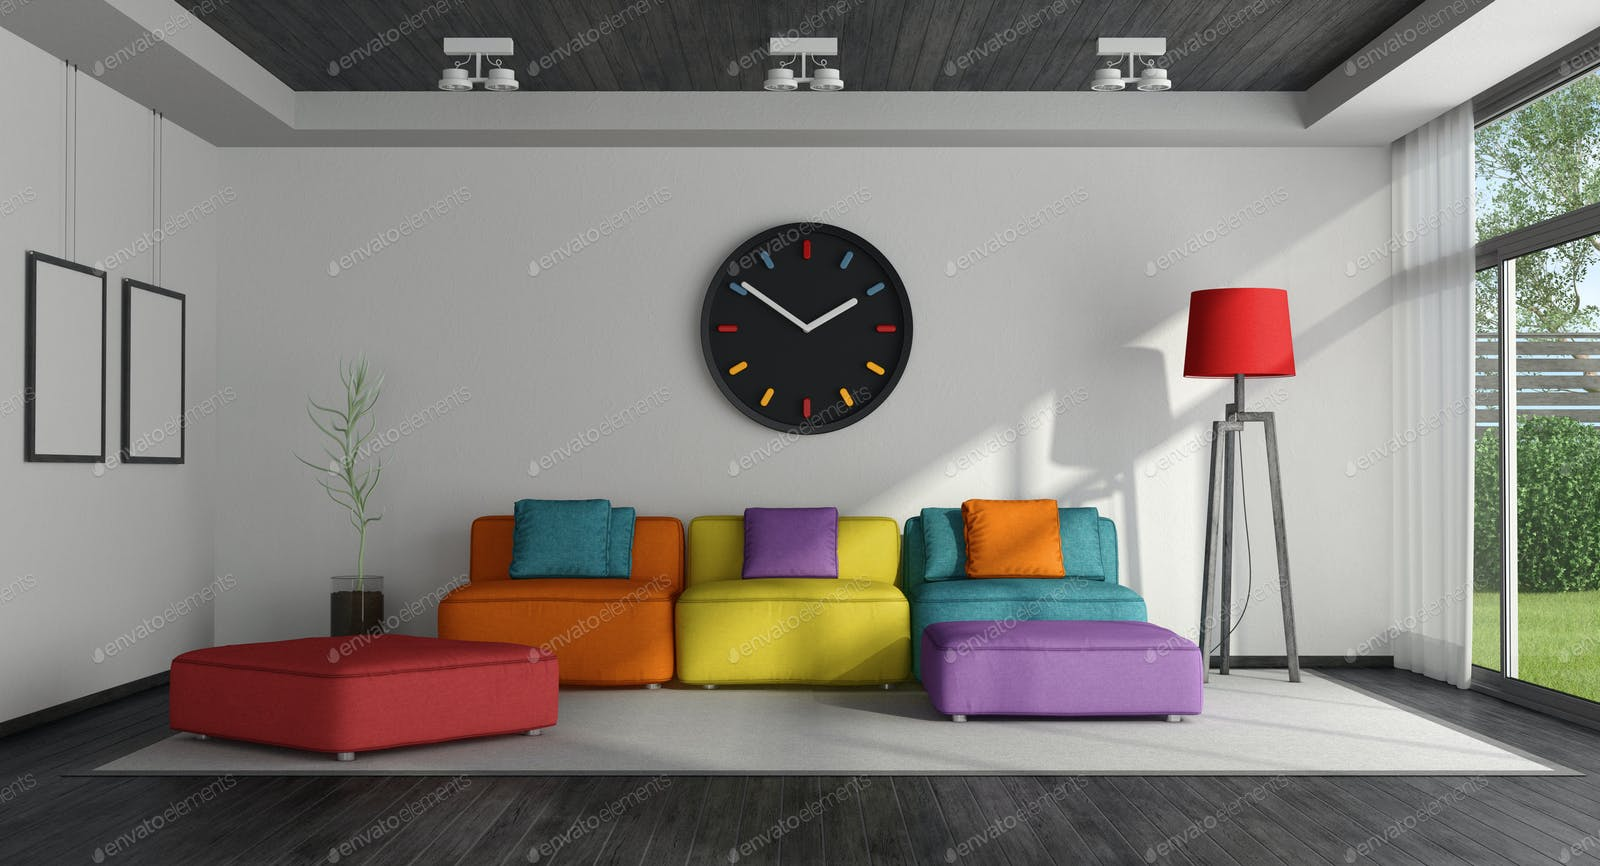biru: (510, 499, 635, 582)
hijau: (915, 575, 1152, 624)
hitam: (700, 222, 915, 434)
kuning: (697, 573, 905, 675)
merah: (163, 646, 565, 740), (1187, 288, 1297, 380)
orange: (454, 594, 670, 681), (961, 502, 1063, 572)
ungu: (925, 627, 1209, 712), (738, 509, 845, 575)
